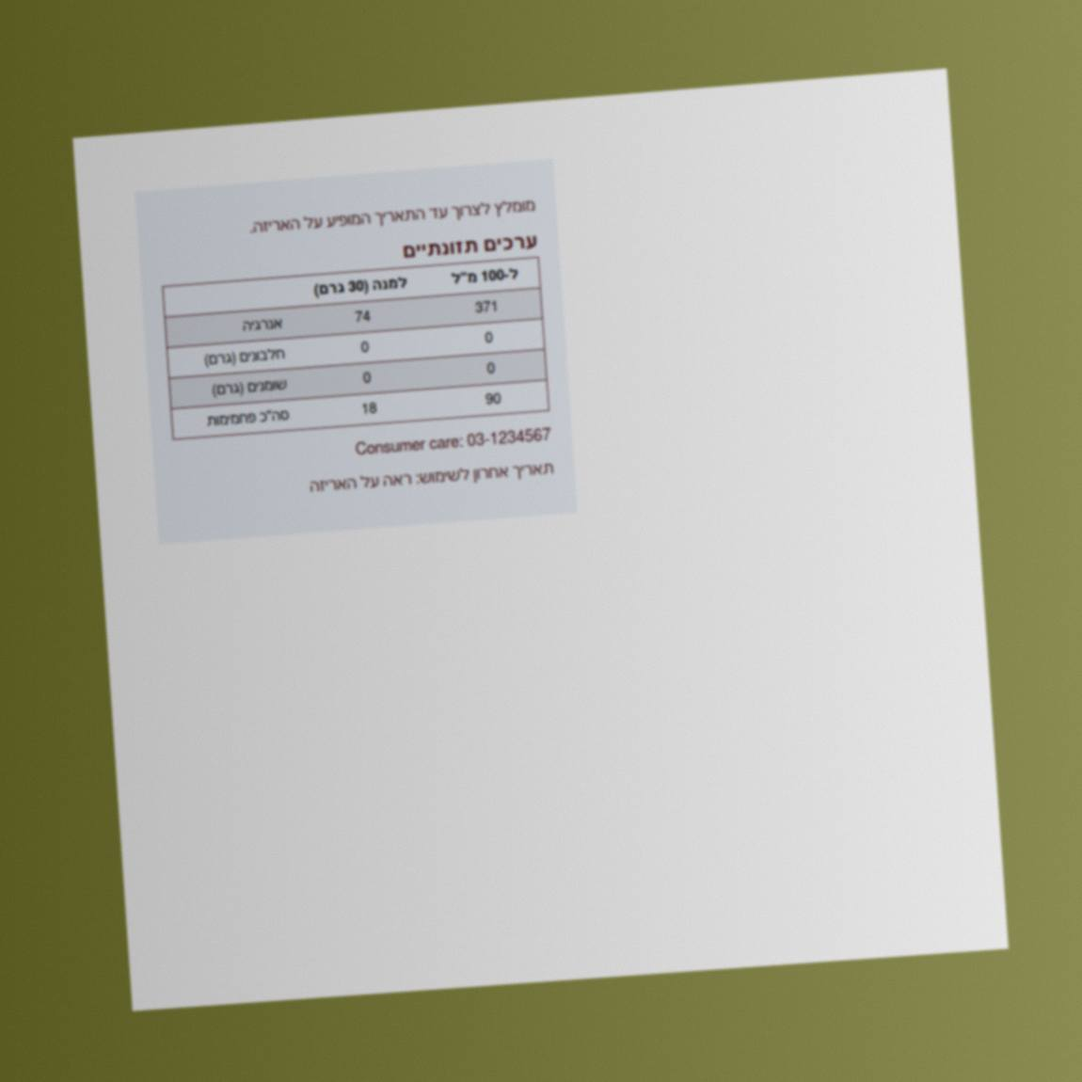carbs: (483, 390, 503, 409)
energy: (473, 298, 501, 317)
fat: (485, 360, 497, 378)
protein: (483, 329, 495, 347)
